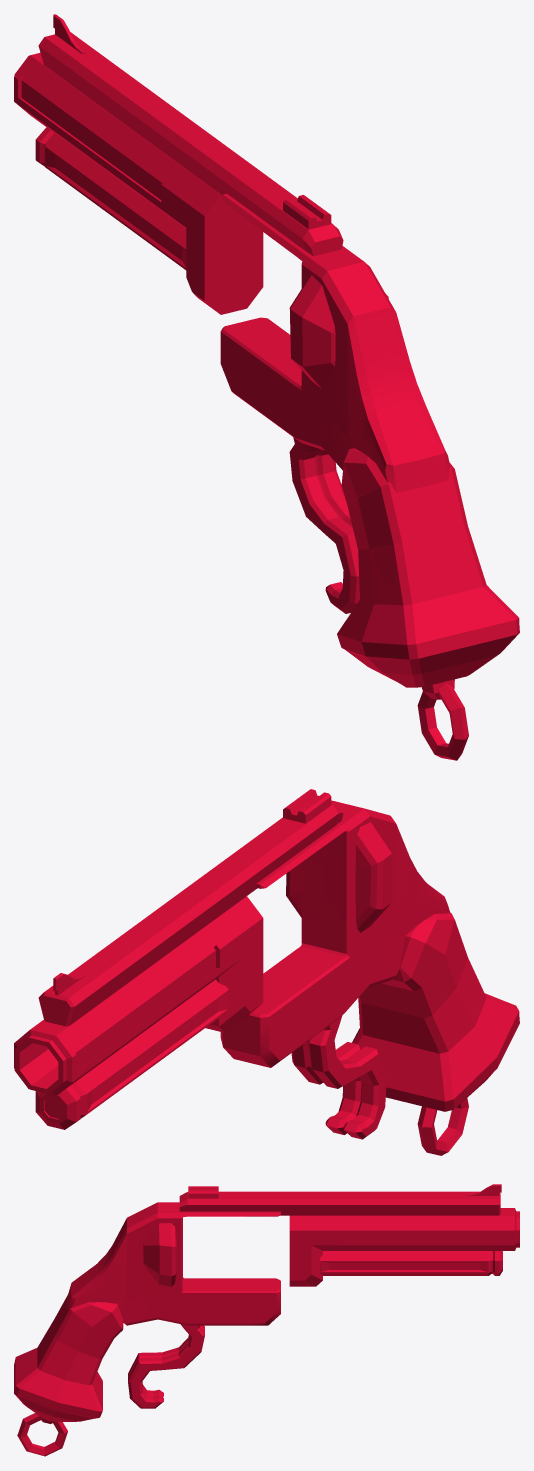
Rendered from REVOLVER_LOW.fbx.
3 renders of one model, top to bottom at view 1: azimuth 30°, elevation 25°; view 2: azimuth 150°, elevation 25°; view 3: azimuth 270°, elevation 25°, orthographic. The views are drawn at different scales.
Visible parts, largest first — view 1: Torus; view 2: Torus; view 3: Torus.
Boxes of the visible parts, x1,y1,x2,y2 form: Torus: (14, 14, 519, 760); Torus: (14, 789, 519, 1155); Torus: (14, 1184, 519, 1456).
Size of the model in its own units: 35.58 by 116 by 195.
